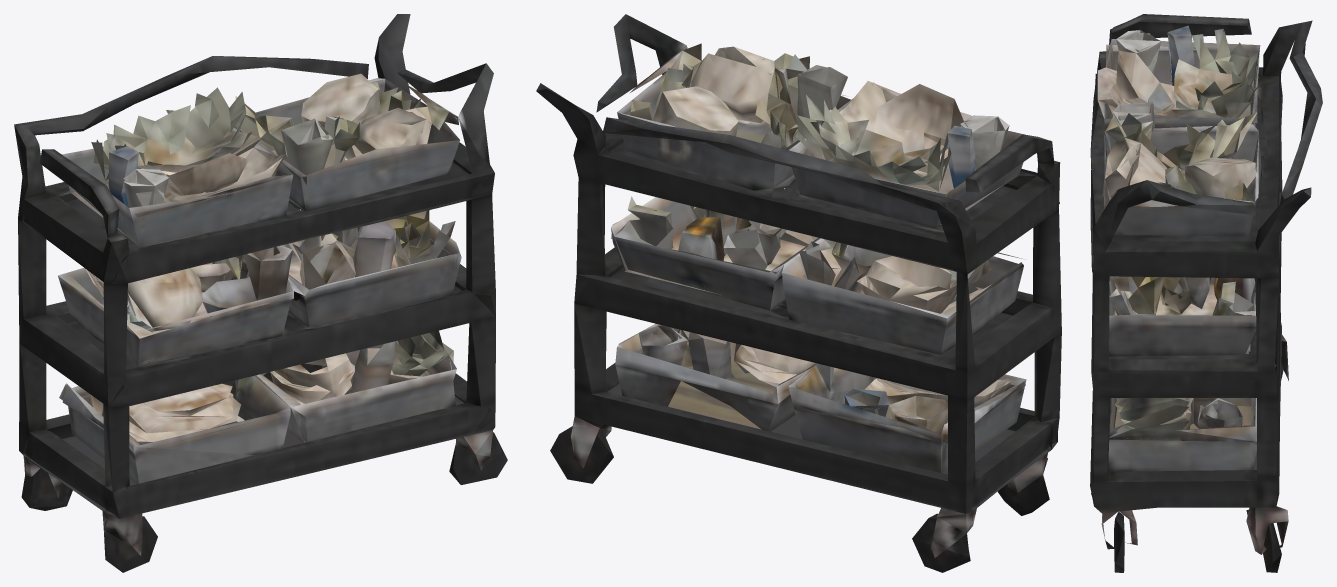
File: p7-bus-cart.glb
3 views of the same model, side by side, from view 1: azimuth 30°, elevation 25°; view 2: azimuth 150°, elevation 25°; view 3: azimuth 270°, elevation 25° (orthographic). The views are drawn at different scales.
Visible parts, largest first — view 1: p7-bus-cart; view 2: p7-bus-cart; view 3: p7-bus-cart.
Part boxes in pixels (x1,y1,x2,y2): p7-bus-cart: [14, 14, 507, 572]; p7-bus-cart: [536, 14, 1061, 572]; p7-bus-cart: [1090, 14, 1322, 572].
Bounding box in the file's own units: 1 × 0.95 × 0.5.
Materials: 1 (1 with a texture image).
